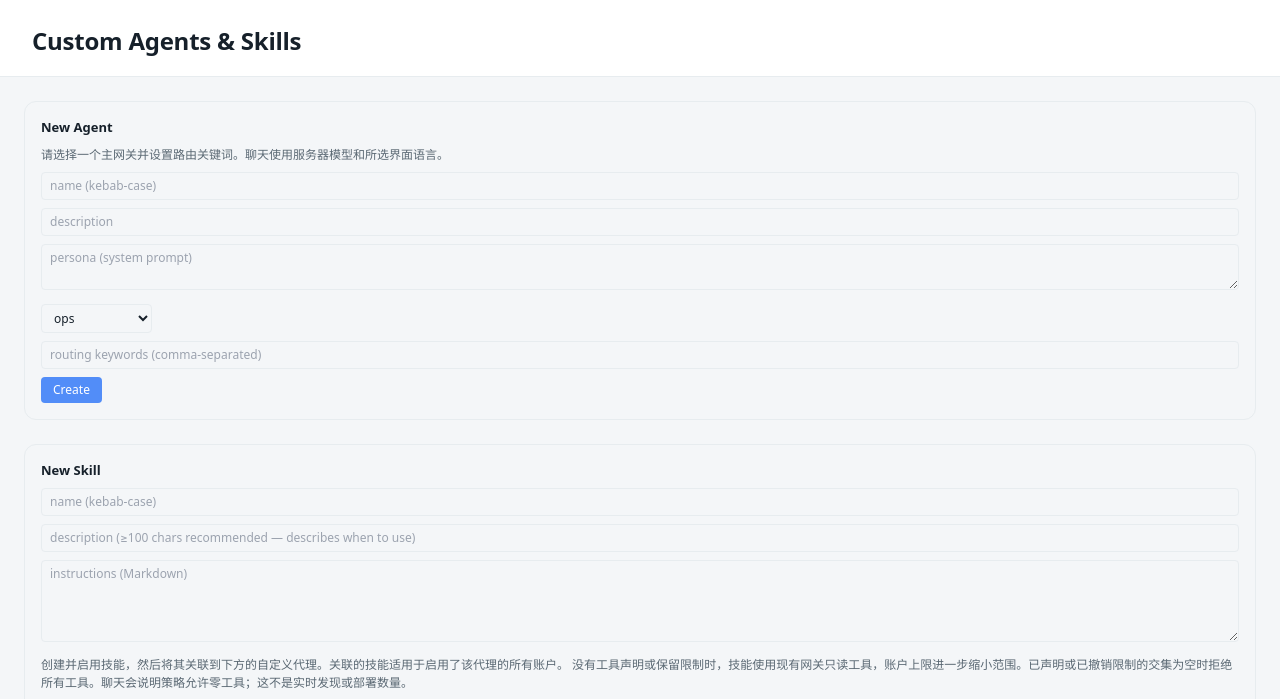
Test: custom agent registration › explains reserved agent names in zh before submission
The width and height of the screenshot is (1280, 699).
Type "auto" into the field with placeholder "name (kebab-case)" below "请选择一个主网关并设置路由关键词。聊天使用服务器模型和所选界面语言。".
click(640, 186); type("auto")  # box x1=41 y1=172 x2=1239 y2=200
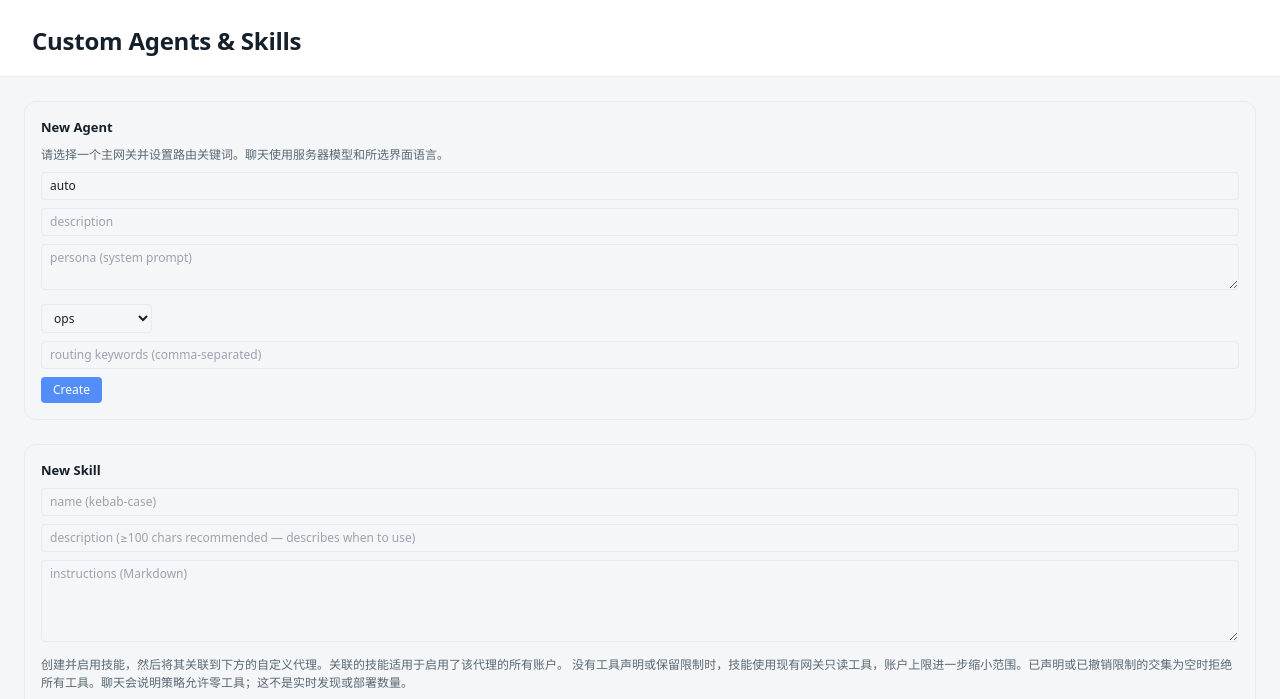
Click the button "Create".
click(71, 390)  # box x1=41 y1=376 x2=102 y2=402
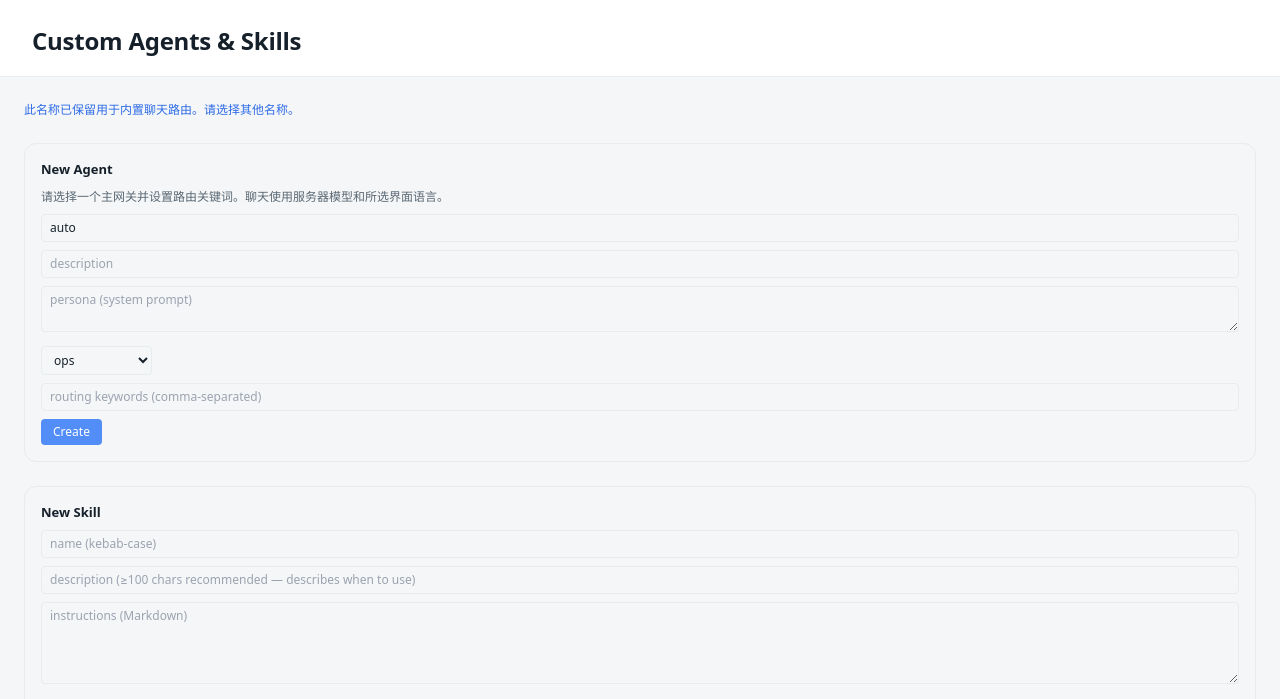
expect the text "此名称已保留用于内置聊天路由。请选择其他名称。" is shown: met, box x1=24 y1=101 x2=300 y2=118
